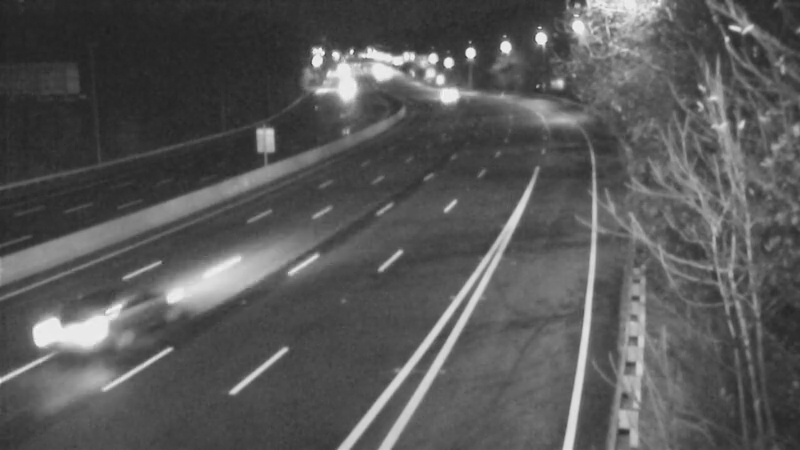vehicle: (24, 268, 134, 378), (421, 72, 471, 122)
